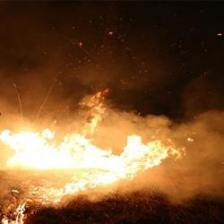fire: (1, 127, 175, 215)
